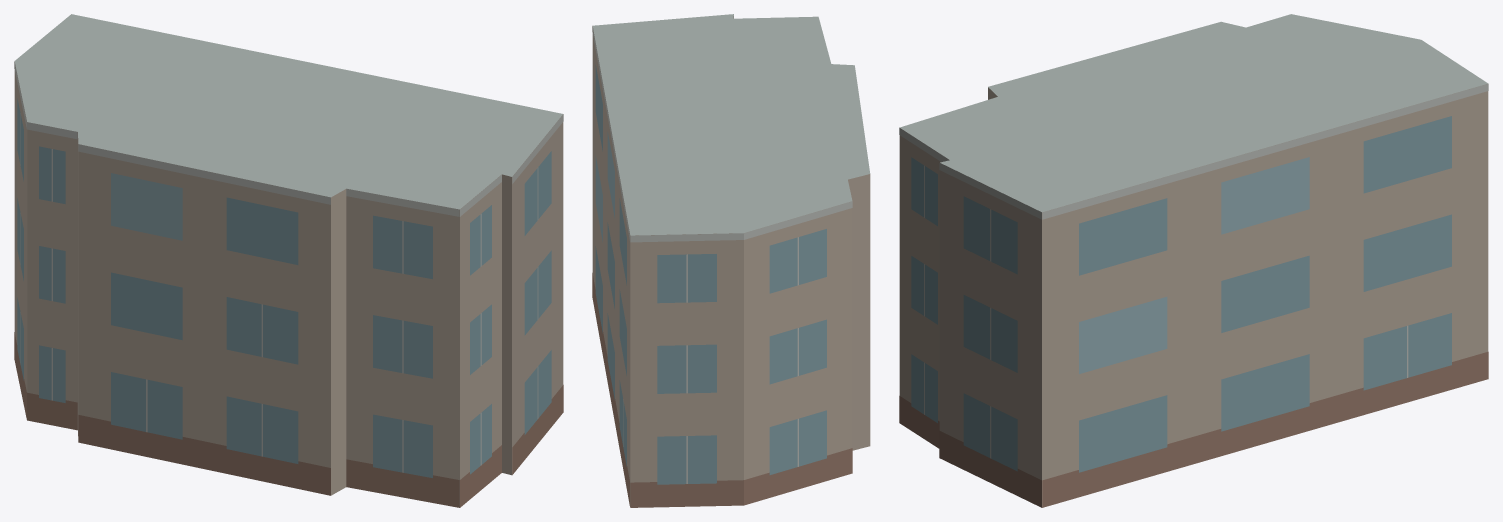
Rendered from survey-upis-32500966.glb.
3 renders of one model, left to right at view 1: azimuth 30°, elevation 25°; view 2: azimuth 150°, elevation 25°; view 3: azimuth 270°, elevation 25°, orthographic. The views are drawn at different scales.
Parts seen in each view (by area): view 1: survey-upis-32500966.tmp; view 2: survey-upis-32500966.tmp; view 3: survey-upis-32500966.tmp.
Part boxes in pixels (x1,y1,x2,y2): survey-upis-32500966.tmp: (14, 14, 563, 507); survey-upis-32500966.tmp: (592, 14, 870, 507); survey-upis-32500966.tmp: (899, 14, 1488, 507).
Size of the model in its own units: 13.97 by 9.7 by 17.53.
